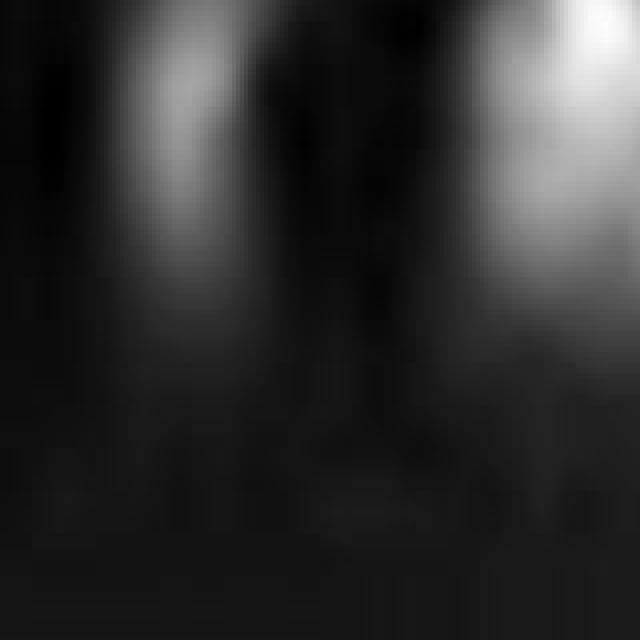person: (473, 1, 640, 364), (129, 1, 317, 316)
